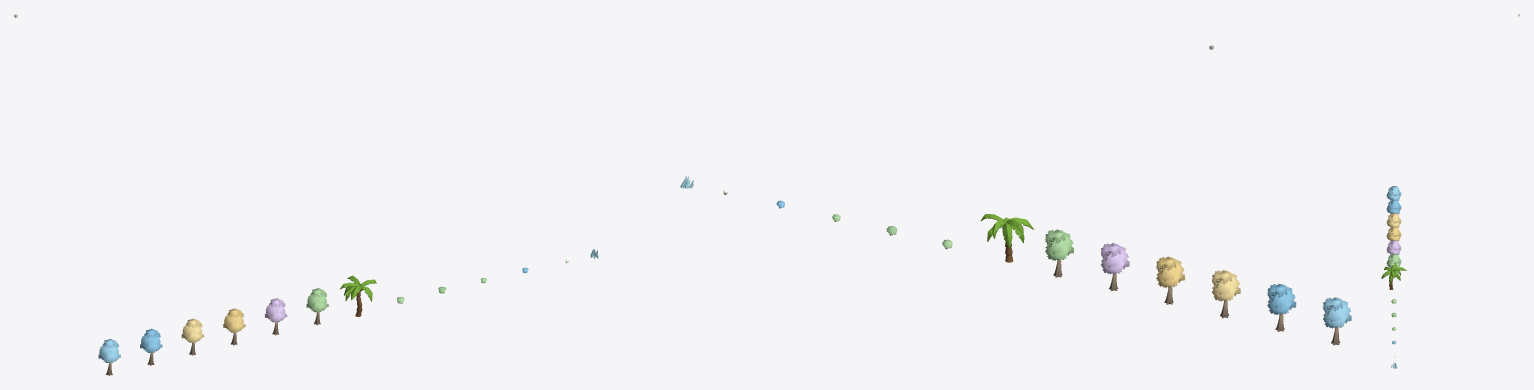
Rendered from LV_KITVEG.fbx.
3 views of the same model, side by side, from view 1: azimuth 30°, elevation 25°; view 2: azimuth 150°, elevation 25°; view 3: azimuth 270°, elevation 25° (orthographic). The views are drawn at different scales.
Parts seen in each view (by area): view 1: VegPalmeira; view 2: VegPalmeira, VegArvoreVerde__LEAFVD, VegArvoreAzul2__LEAFAZ2, VegArvoreOuro2__LEAFGD2, VegArvoreLilas__LEAFLV, VegArvoreOuro__LEAFGD, VegArvoreAzul__LEAFAZ; view 3: VegPalmeira, VegArvoreOuro2__LEAFGD2, VegArvoreAzul2__LEAFAZ2, VegArvoreLilas__LEAFLV, VegArvoreAzul__LEAFAZ, VegArvoreOuro__LEAFGD, VegArvoreVerde__LEAFVD.
Part boxes in pixels (x1=…): VegPalmeira: x1=340, y1=275, x2=376, y2=316; VegPalmeira: x1=980, y1=214, x2=1033, y2=262; VegArvoreVerde__LEAFVD: x1=1045, y1=229, x2=1074, y2=260; VegArvoreAzul2__LEAFAZ2: x1=1267, y1=283, x2=1296, y2=314; VegArvoreOuro2__LEAFGD2: x1=1156, y1=256, x2=1185, y2=287; VegArvoreLilas__LEAFLV: x1=1101, y1=243, x2=1129, y2=274; VegArvoreOuro__LEAFGD: x1=1212, y1=270, x2=1240, y2=301; VegArvoreAzul__LEAFAZ: x1=1323, y1=297, x2=1351, y2=328; VegPalmeira: x1=1381, y1=264, x2=1406, y2=289; VegArvoreOuro2__LEAFGD2: x1=1386, y1=226, x2=1401, y2=241; VegArvoreAzul2__LEAFAZ2: x1=1386, y1=199, x2=1401, y2=214; VegArvoreLilas__LEAFLV: x1=1386, y1=240, x2=1401, y2=254; VegArvoreAzul__LEAFAZ: x1=1386, y1=186, x2=1401, y2=200; VegArvoreOuro__LEAFGD: x1=1386, y1=213, x2=1401, y2=227; VegArvoreVerde__LEAFVD: x1=1386, y1=253, x2=1401, y2=267.
Bounding box in the file's own units: 226 × 121 × 77.71.
Materials: 15 (2 with a texture image).
